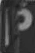Parking: (1, 0, 33, 49)
